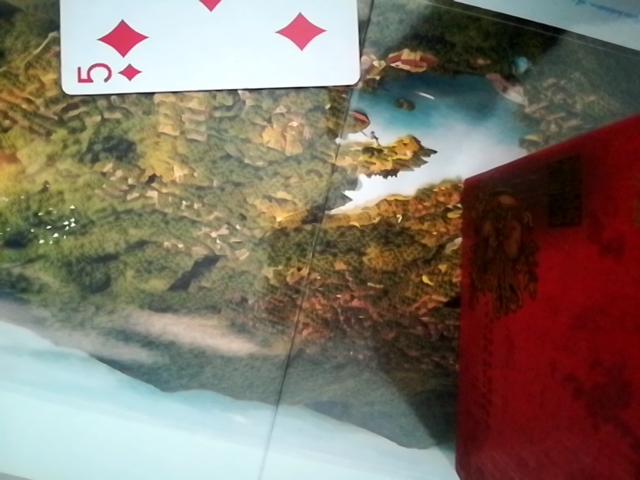fk 5: (48, 2, 361, 94)
